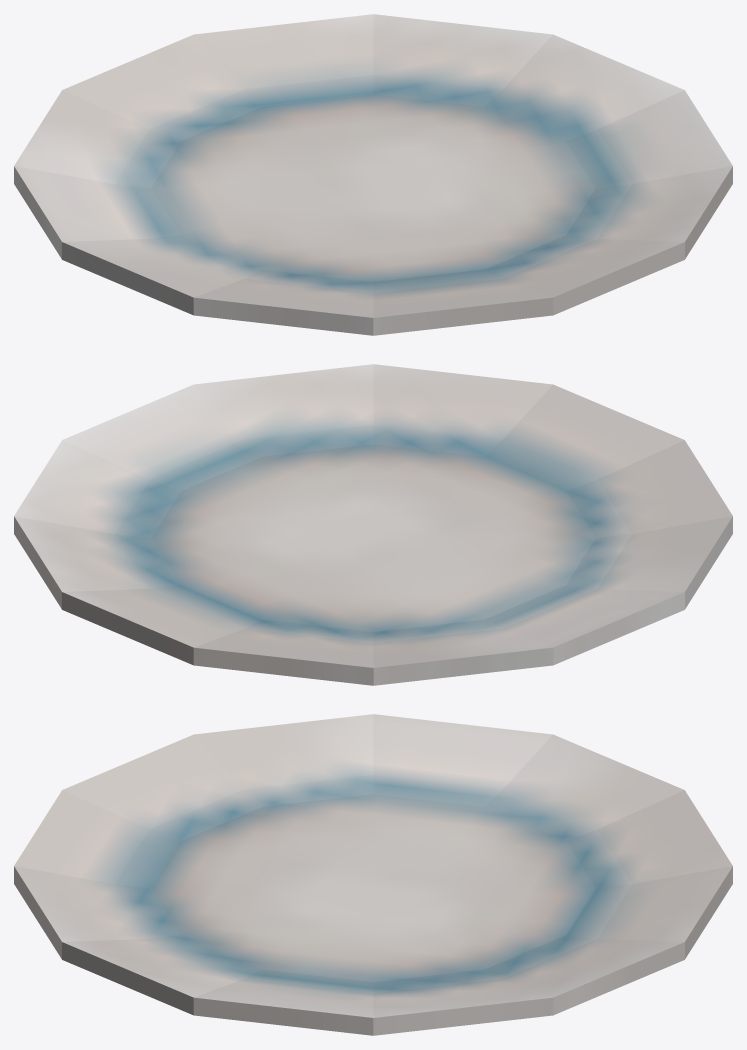
Rendered from plate2a.fbx.
3 renders of one model, top to bottom at view 1: azimuth 30°, elevation 25°; view 2: azimuth 150°, elevation 25°; view 3: azimuth 270°, elevation 25°, orthographic.
Parts seen in each view (by area): view 1: pCylinder8; view 2: pCylinder8; view 3: pCylinder8.
Boxes of the visible parts, x1,y1,x2,y2 form: pCylinder8: [14, 14, 732, 335]; pCylinder8: [14, 364, 732, 685]; pCylinder8: [14, 714, 732, 1035].
Bounding box in the file's own units: 14.75 × 0.8136 × 14.75.
Materials: 1 (1 with a texture image).
